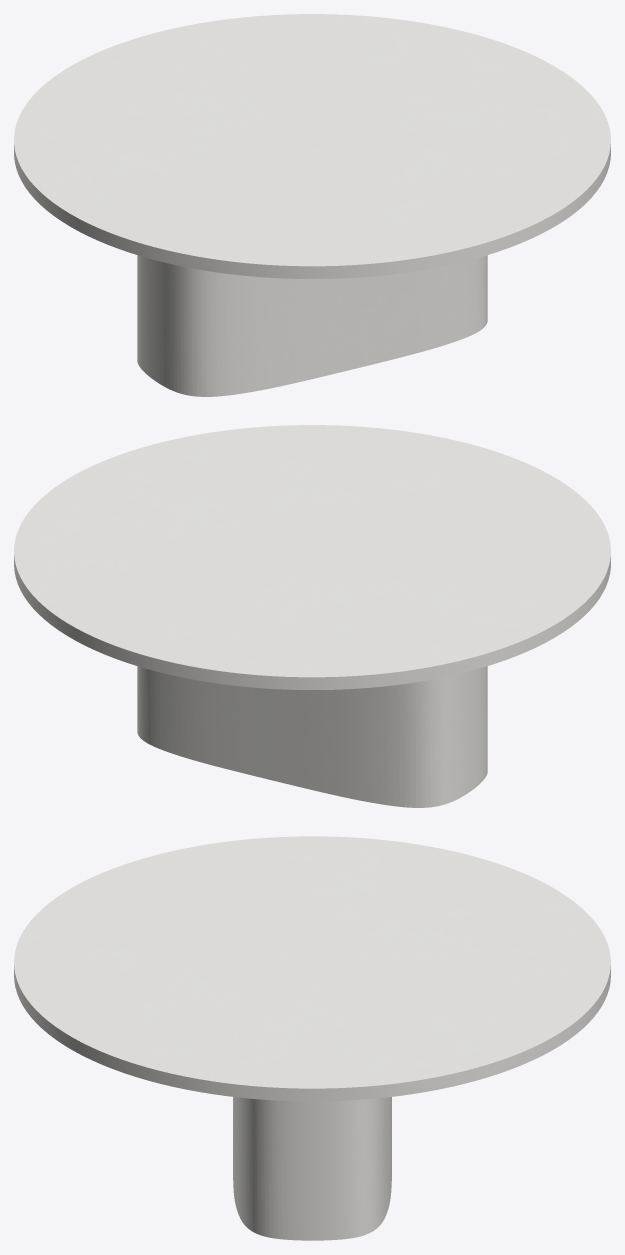
Rendered from purewhite_round_standard_fixed.glb.
The picture shows the model from 3 angles, top to bottom: view 1: azimuth 30°, elevation 25°; view 2: azimuth 150°, elevation 25°; view 3: azimuth 270°, elevation 25°; orthographic projection.
Parts seen in each view (by area): view 1: standard_round, fixed; view 2: standard_round, fixed; view 3: standard_round, fixed.
Boxes of the visible parts, x1,y1,x2,y2 form: standard_round: [14, 14, 610, 278]; fixed: [137, 255, 487, 396]; standard_round: [14, 425, 610, 689]; fixed: [137, 666, 487, 807]; standard_round: [14, 836, 610, 1101]; fixed: [233, 1097, 391, 1240].
Size of the model in its own units: 6.75 by 2.5 by 6.75.
1 material, 1 textured.
